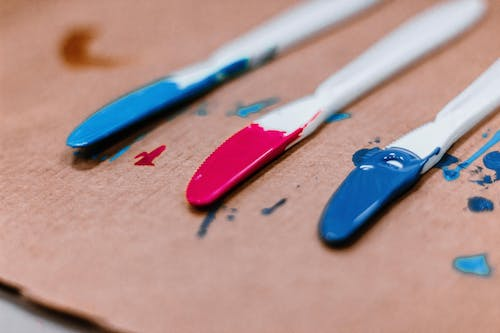knife: (183, 0, 491, 209), (64, 0, 390, 149), (317, 56, 500, 251)
